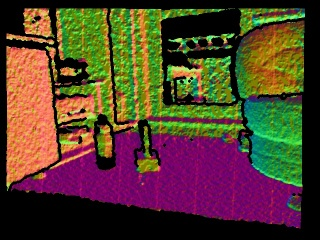station: (135, 121, 160, 174)
